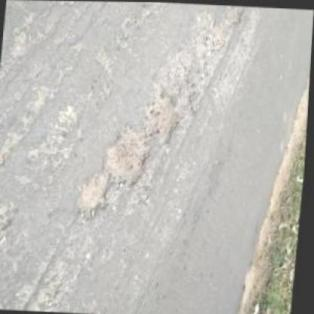Hueco: (103, 123, 154, 188), (143, 92, 184, 144), (73, 172, 112, 220)
